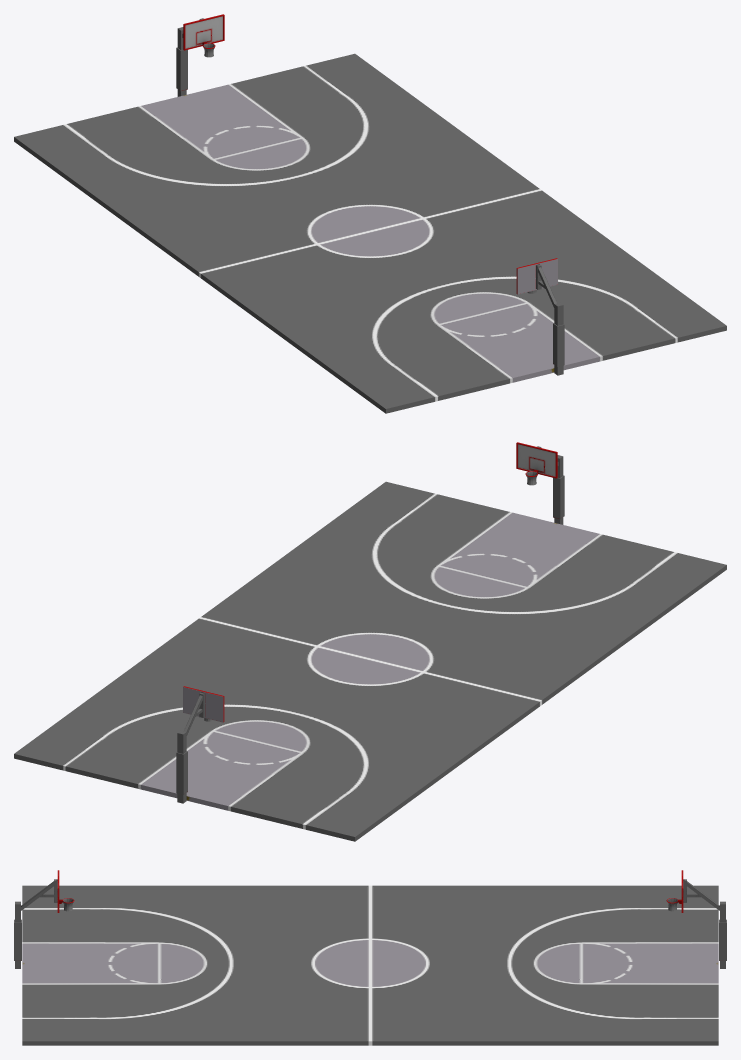
File: graybasketballcourt3.glb
3 views of the same model, one above another, from view 1: azimuth 30°, elevation 25°; view 2: azimuth 150°, elevation 25°; view 3: azimuth 270°, elevation 25° (orthographic). The views are drawn at different scales.
Visible parts, largest first — view 1: BasketBallCourt_Mesh; view 2: BasketBallCourt_Mesh; view 3: BasketBallCourt_Mesh.
Part boxes in pixels (x1,y1,x2,y2): BasketBallCourt_Mesh: (14, 14, 726, 413); BasketBallCourt_Mesh: (14, 442, 726, 841); BasketBallCourt_Mesh: (14, 870, 726, 1045).
Size of the model in its own units: 15.2 by 4.03 by 29.4.
1 material, 1 textured.
